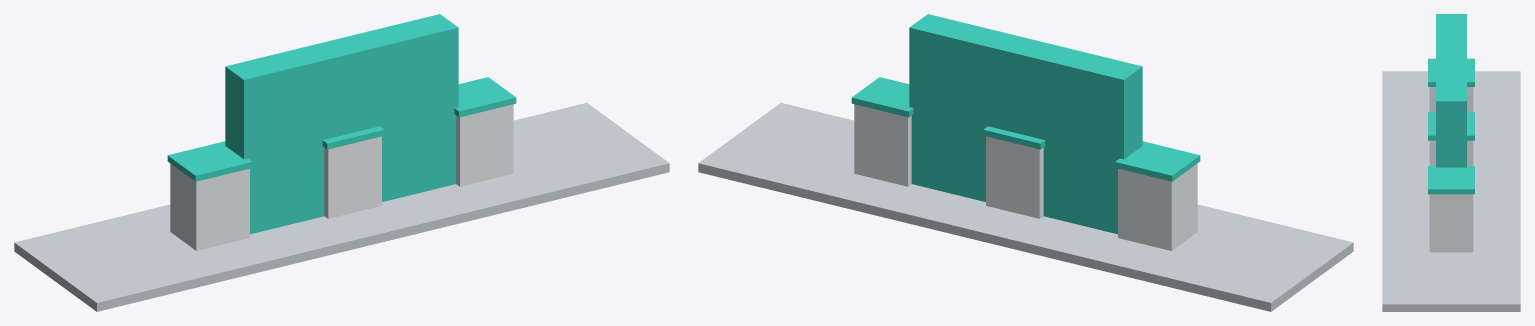
The picture shows the model from 3 angles, left to right: view 1: azimuth 30°, elevation 25°; view 2: azimuth 150°, elevation 25°; view 3: azimuth 270°, elevation 25°; orthographic projection. The views are drawn at different scales.
Visible parts, largest first — view 1: Exhibition Booth Concept; view 2: Exhibition Booth Concept; view 3: Exhibition Booth Concept.
Boxes of the visible parts, box(x1,y1,x2,y2) form: Exhibition Booth Concept: box(14, 14, 669, 311); Exhibition Booth Concept: box(698, 14, 1353, 311); Exhibition Booth Concept: box(1382, 14, 1520, 311).
Bounding box in the file's own units: 8 × 2.2 × 2.
